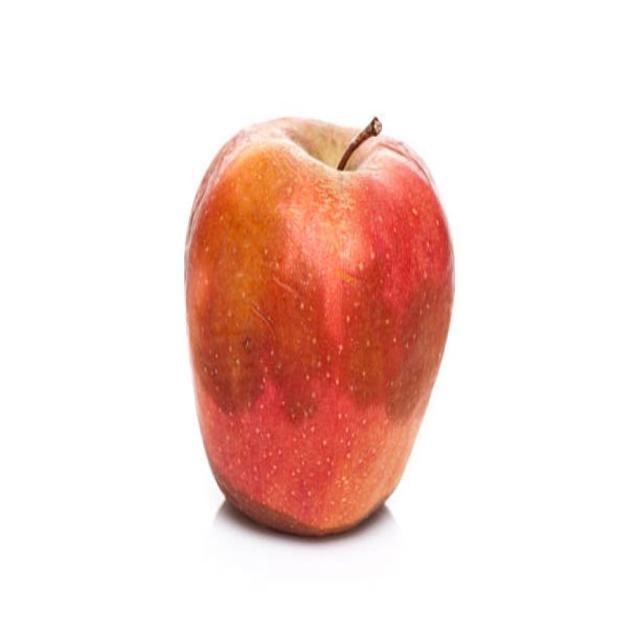Rotten Apple: (164, 70, 466, 544)
